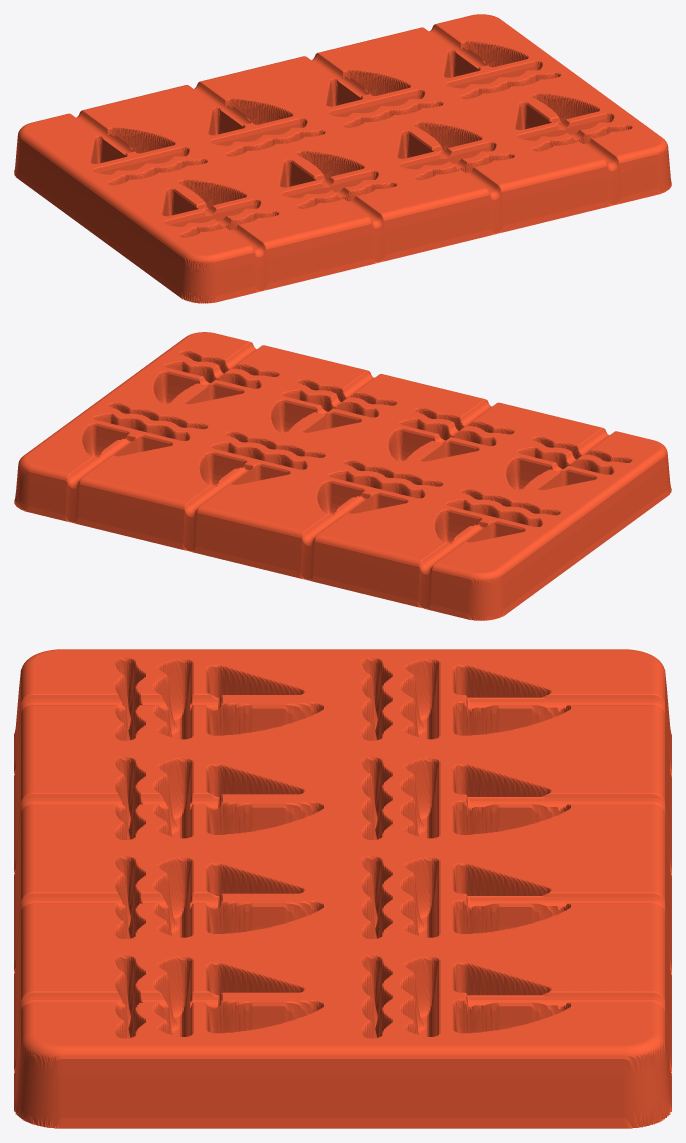
File: mold.glb
The picture shows the model from 3 angles, top to bottom: view 1: azimuth 30°, elevation 25°; view 2: azimuth 150°, elevation 25°; view 3: azimuth 270°, elevation 25°; orthographic projection. The views are drawn at different scales.
Parts seen in each view (by area): view 1: geometry_0; view 2: geometry_0; view 3: geometry_0.
Part boxes in pixels (bbox=[...]): geometry_0: bbox=[14, 14, 671, 303]; geometry_0: bbox=[14, 332, 671, 620]; geometry_0: bbox=[14, 649, 671, 1128].
Bounding box in the file's own units: 0.1818 × 0.0155 × 0.1229.
